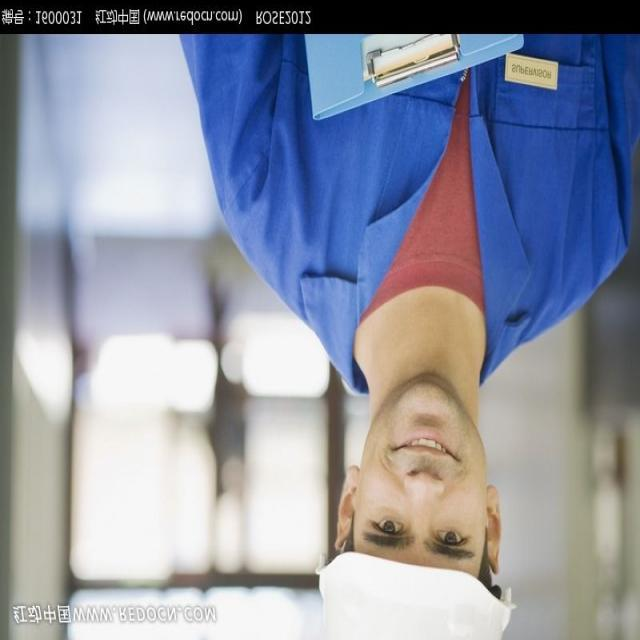safetyhelmet: (291, 374, 534, 640)
